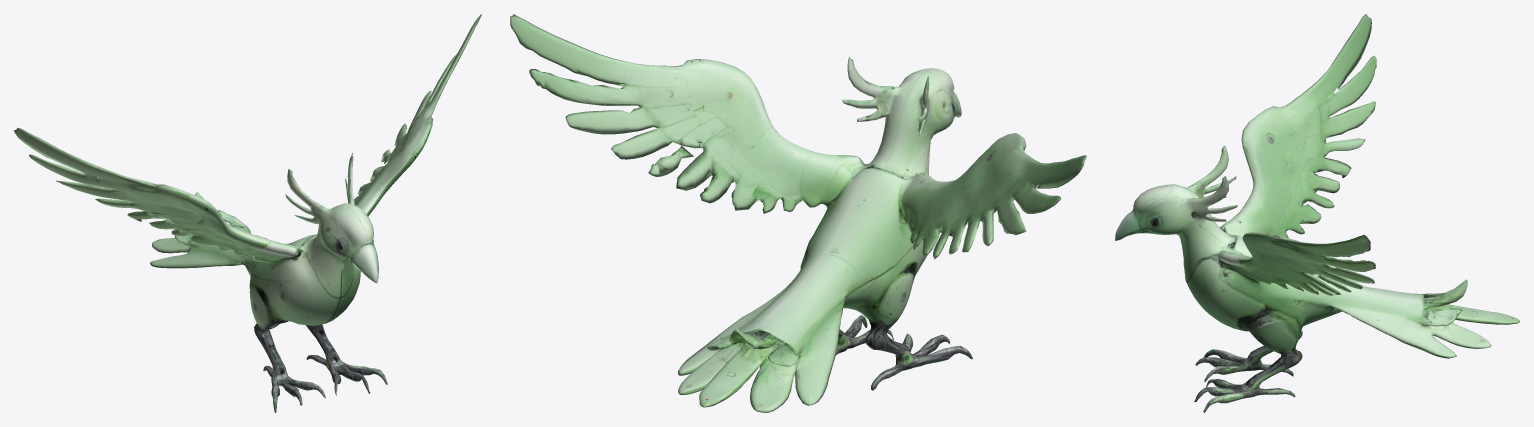
Rendered from robotic_bird__0527140306_texture.glb.
3 views of the same model, side by side, from view 1: azimuth 30°, elevation 25°; view 2: azimuth 150°, elevation 25°; view 3: azimuth 270°, elevation 25° (orthographic). The views are drawn at different scales.
Bounding box in the file's own units: 1.99 × 1.1 × 1.53.
1 material, 1 textured.
